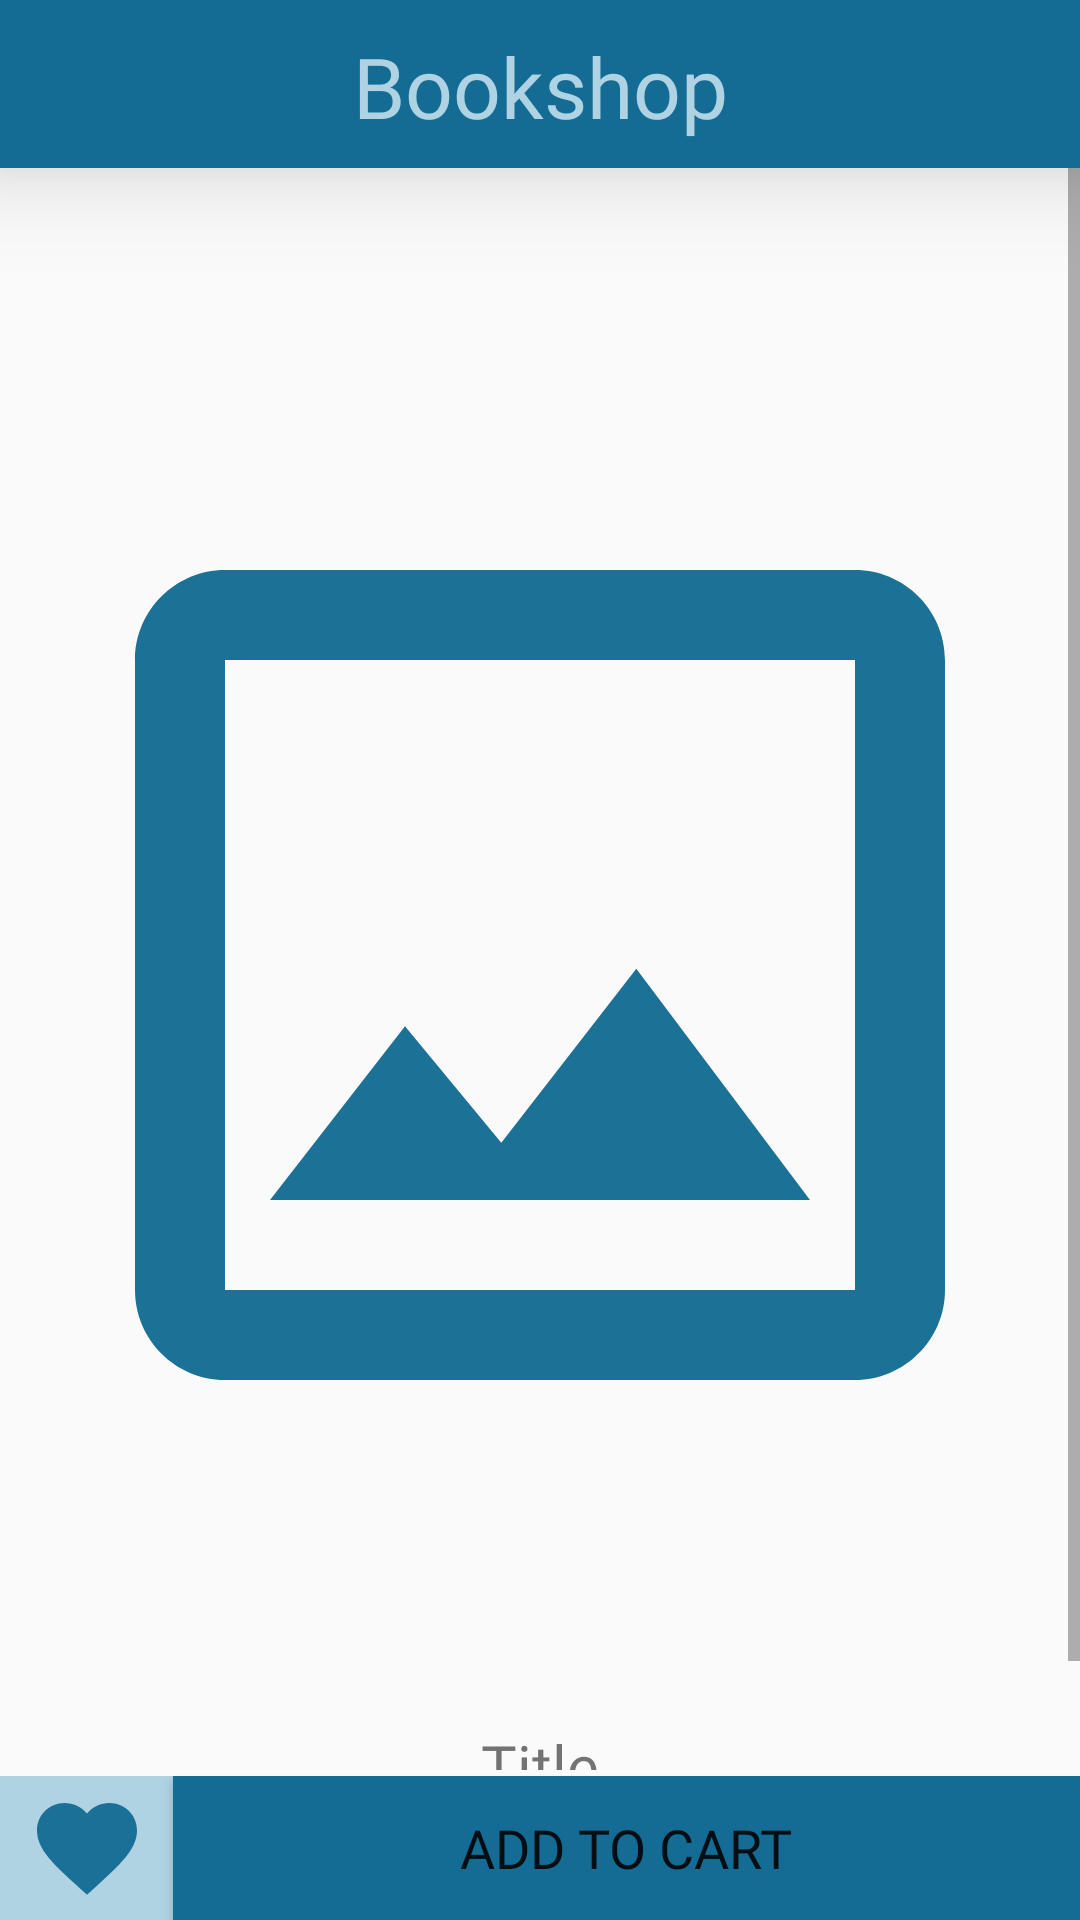

Icons on this 1080×1920 Android screen, each with the point to tap as point (x, y):
favorite: point (86, 1848)
